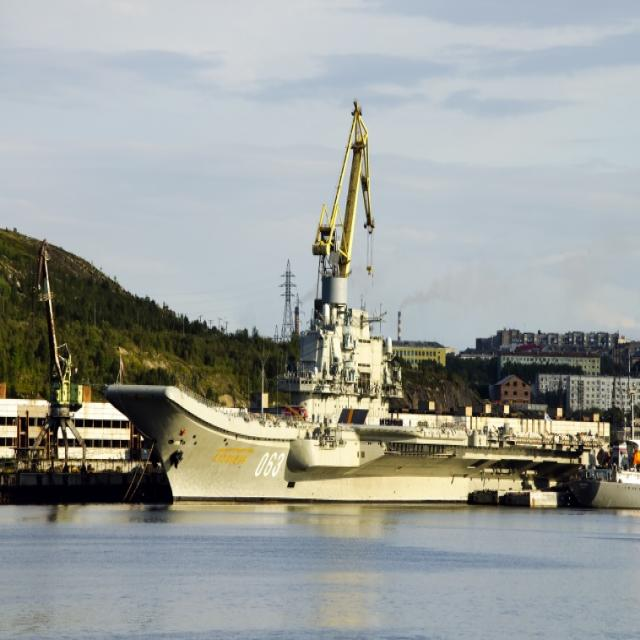Portanaves: (100, 270, 614, 508)
